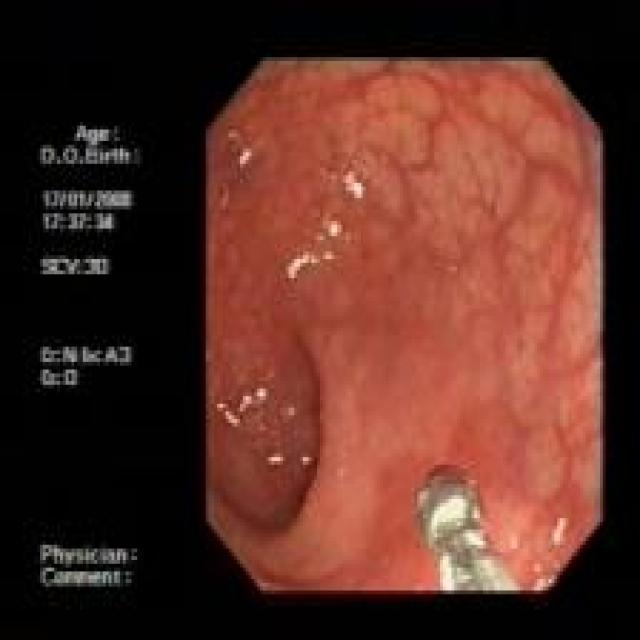color misalignment: (38, 123, 138, 588)
instrument: (414, 456, 519, 590)
specularity: (428, 493, 471, 538), (286, 246, 321, 280), (238, 384, 268, 413), (216, 397, 238, 429), (262, 443, 286, 472), (345, 168, 364, 202), (438, 553, 456, 588), (532, 559, 553, 588), (463, 528, 488, 551), (549, 513, 565, 544), (325, 219, 345, 242), (301, 449, 319, 473), (237, 147, 252, 166)
